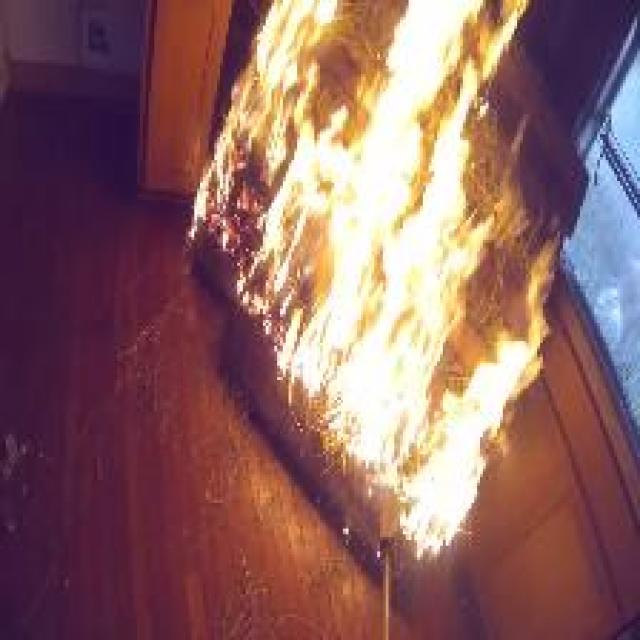fire: (188, 0, 574, 556)
